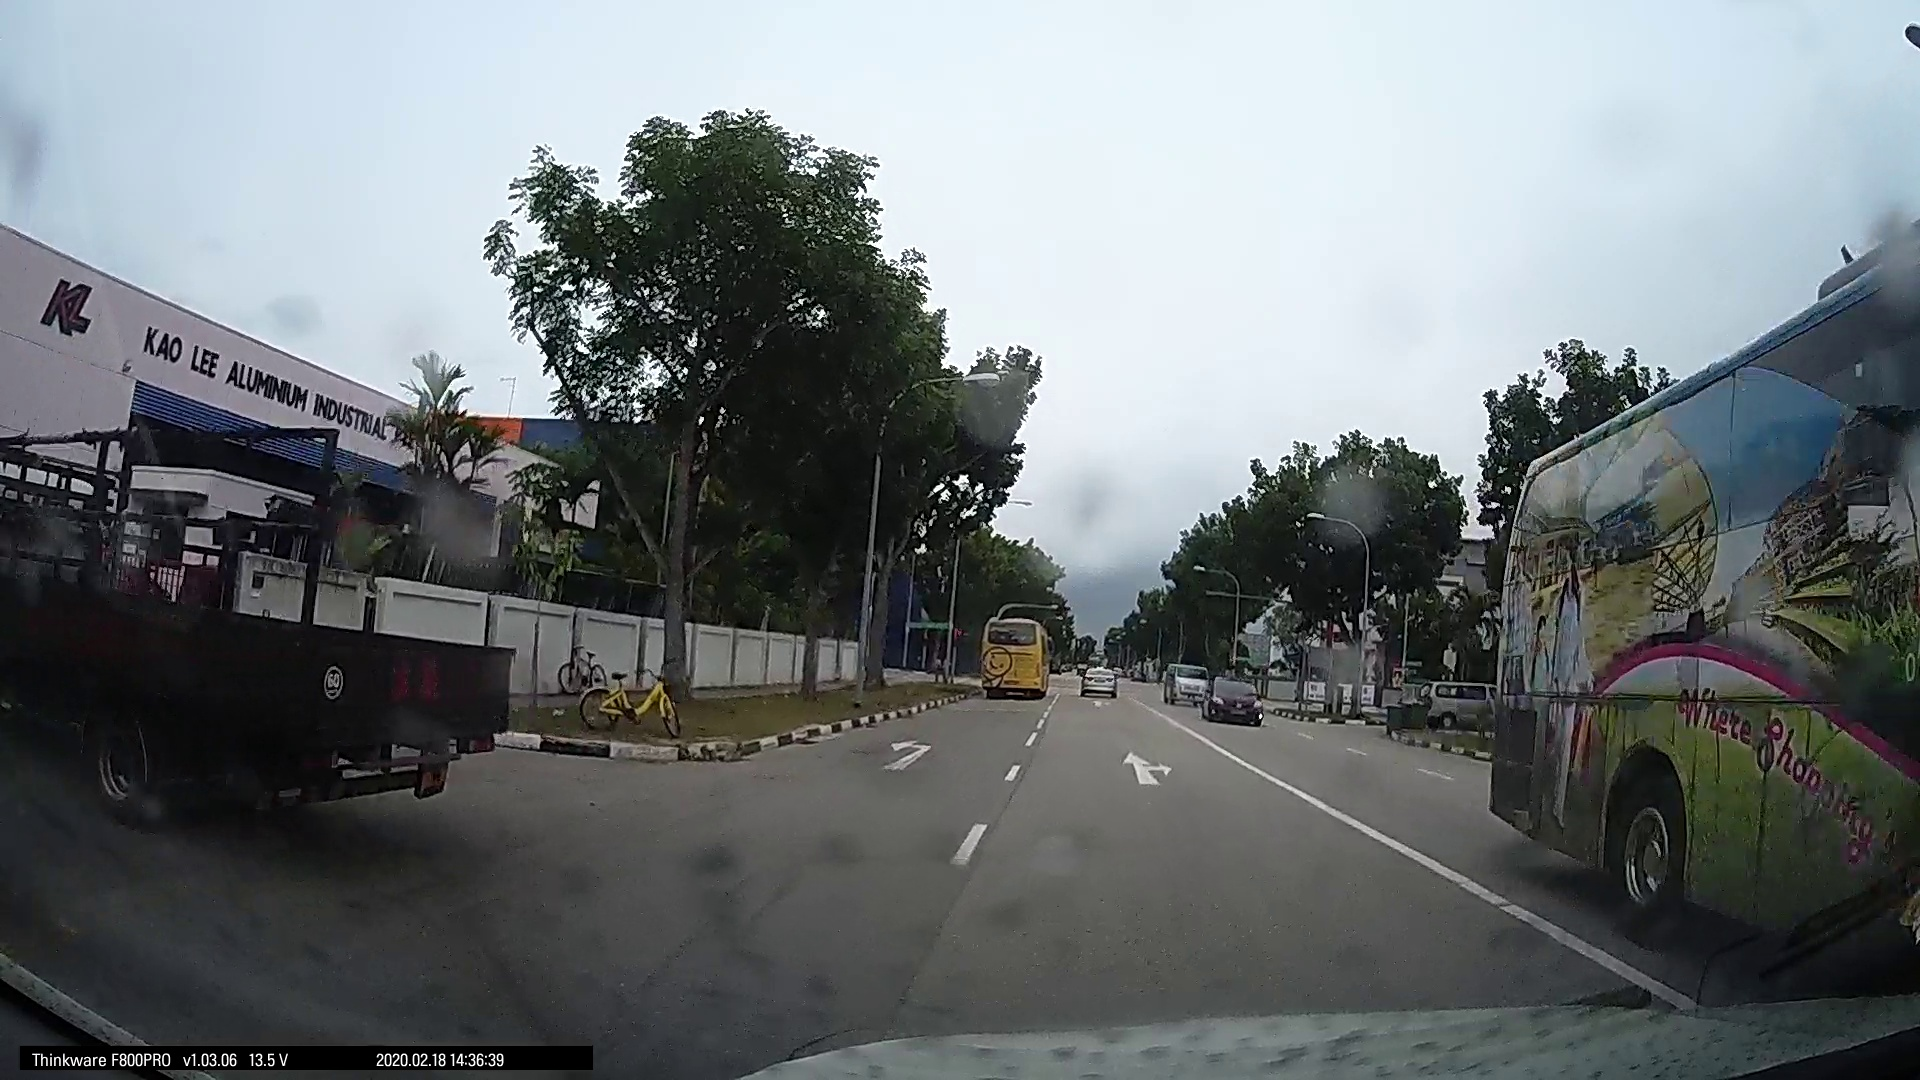Heavy Vehicle: (1491, 322, 1898, 967), (7, 406, 521, 833), (975, 618, 1052, 702)
Light Vehicle: (1199, 673, 1261, 725), (1158, 663, 1207, 704), (1075, 657, 1118, 698)
